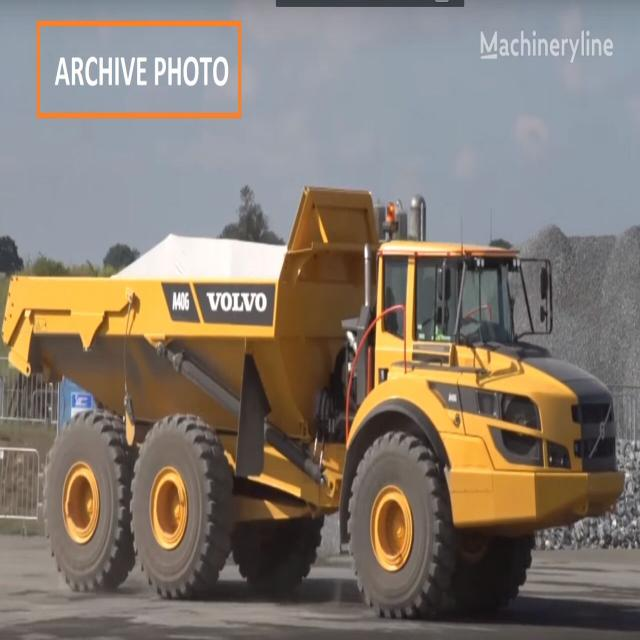dump_truck: (5, 172, 630, 626)
